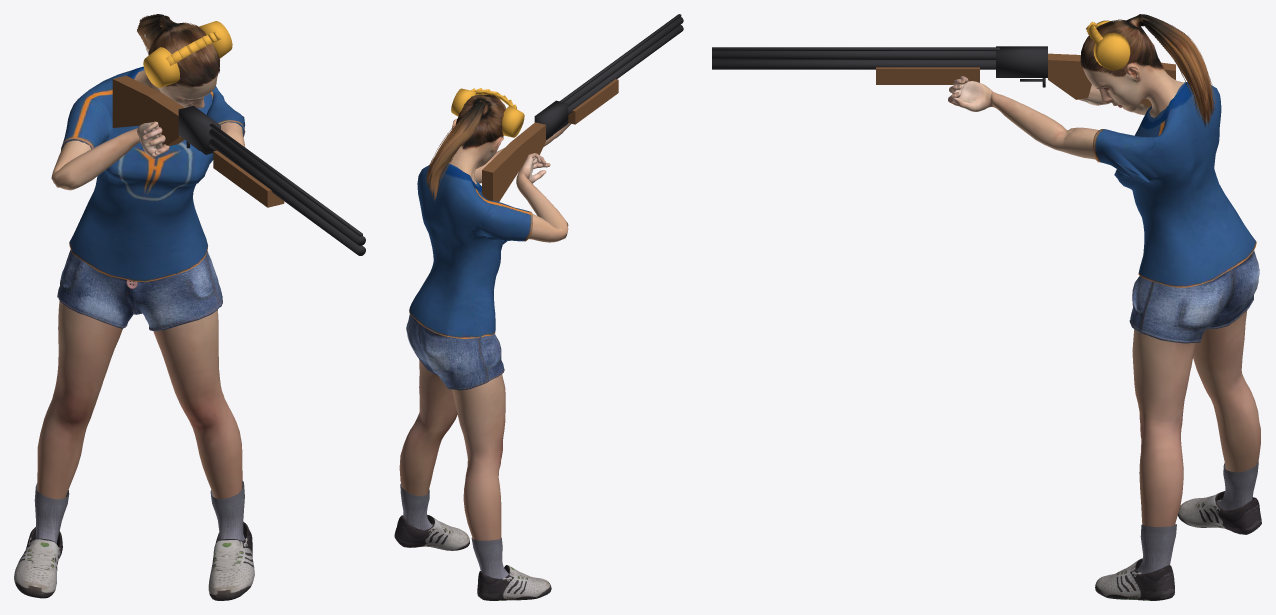
The picture shows the model from 3 angles, left to right: view 1: azimuth 30°, elevation 25°; view 2: azimuth 150°, elevation 25°; view 3: azimuth 270°, elevation 25°; orthographic projection. The views are drawn at different scales.
Parts seen in each view (by area): view 1: Human.female_casualsuit02, Human, Human.shoes05, fusil_acier, fusil_bois, Human.ponytail01, casque; view 2: Human.female_casualsuit02, Human, Human.shoes05, Human.ponytail01, fusil_bois, fusil_acier, casque; view 3: Human.female_casualsuit02, Human, fusil_acier, Human.shoes05, Human.ponytail01, fusil_bois, casque.
Part boxes in pixels (x1,y1,x2,y2): Human.female_casualsuit02: (57,66,245,331); Human: (37,70,244,499); Human.shoes05: (14,481,254,600); fusil_acier: (178,105,365,255); fusil_bois: (112,75,284,207); Human.ponytail01: (137,14,220,87); casque: (143,21,232,87); Human.female_casualsuit02: (406,163,532,390); Human: (399,101,571,540); Human.shoes05: (394,484,551,600); Human.ponytail01: (426,94,506,200); fusil_bois: (482,79,618,201); fusil_acier: (534,14,683,140); casque: (451,88,524,137); Human.female_casualsuit02: (1092,82,1259,343); Human: (948,62,1260,526); fusil_acier: (712,46,1047,87); Human.shoes05: (1095,460,1261,600); Human.ponytail01: (1080,14,1215,126); fusil_bois: (876,53,1175,107); casque: (1086,20,1130,70).
Bounding box in the file's own units: 0.584 × 1.54 × 1.37.
Materials: 10 (7 with a texture image).
